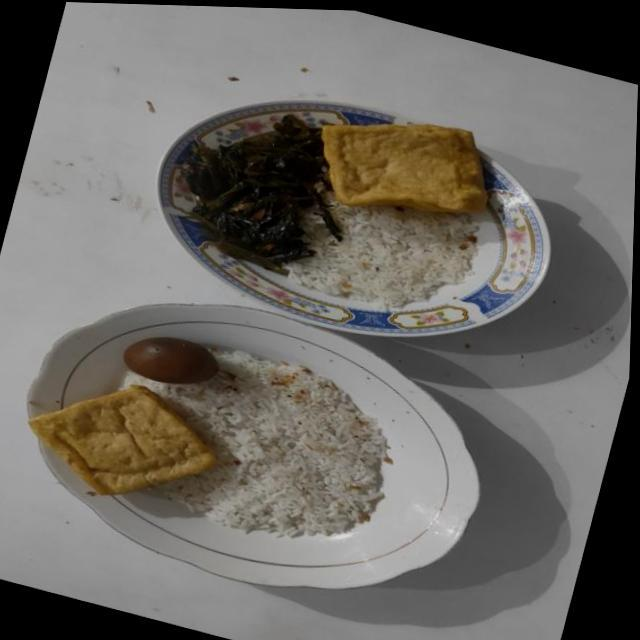nasi_putih: (136, 348, 386, 538), (291, 202, 478, 308)
tahu_goreng: (28, 384, 215, 494), (321, 122, 486, 212)
tumis_kangkung: (180, 116, 342, 270)
